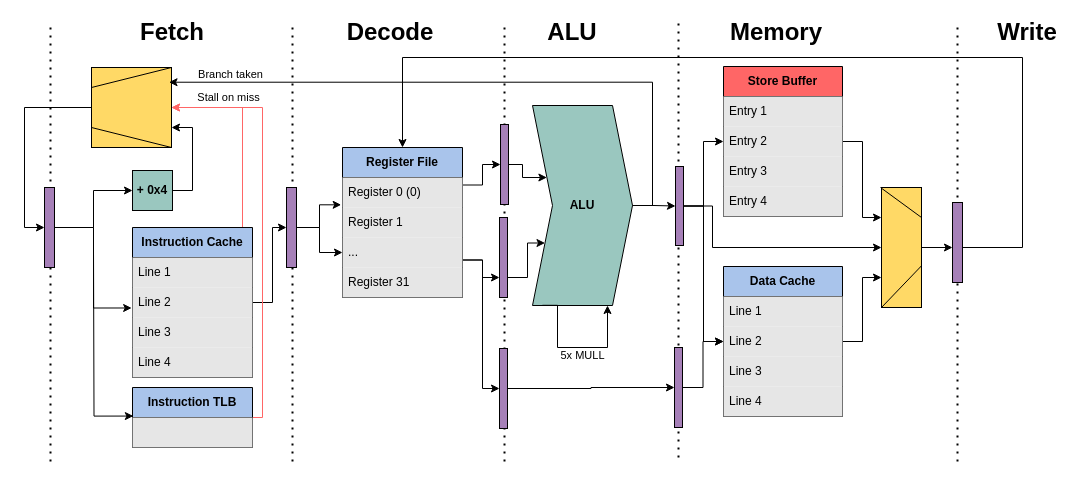
Some shapes in this 1075 by 486 pixel diagram are drawn without their labels. The shapes that lost their labels are listed below. From the top down, each one's centre as x and y in pixels, then its label:
At [131,107]: "Select next PC".
At [192,432]: "Mapping 1".
